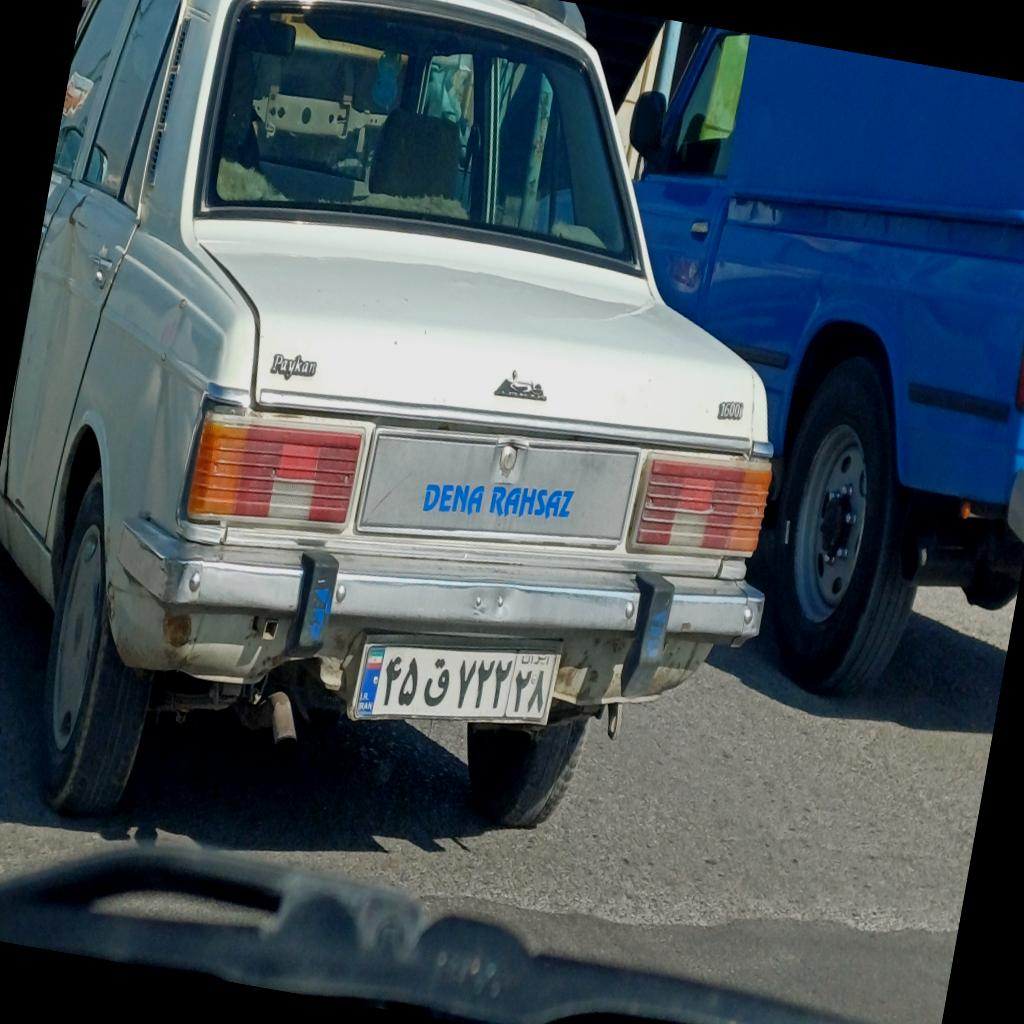Plates: (354, 618, 558, 750)
